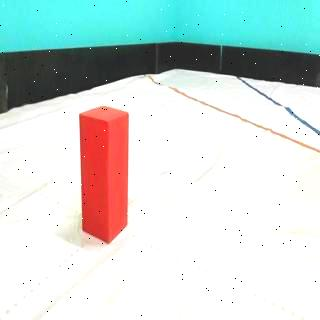redbox: (80, 105, 128, 246)
